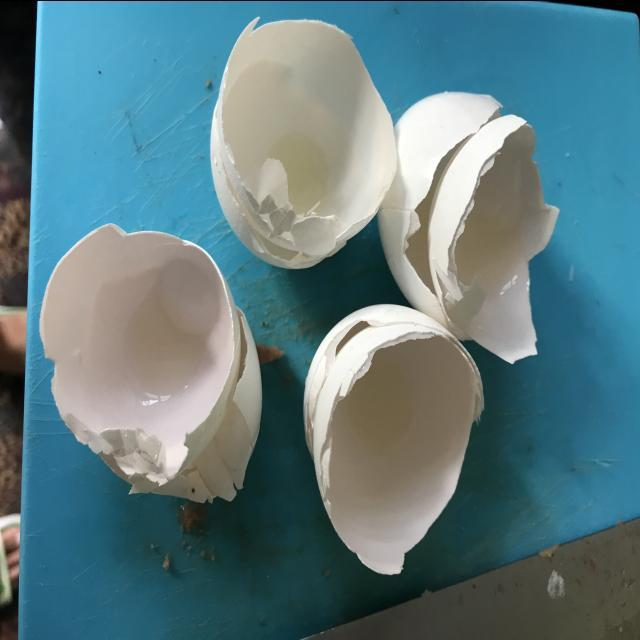egg shell: (35, 209, 272, 522), (370, 76, 566, 375), (294, 289, 490, 586), (203, 0, 402, 280)
